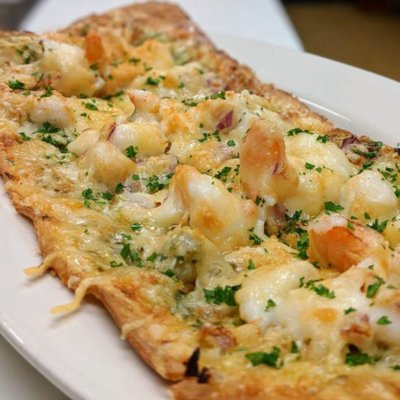sandwich: (0, 1, 400, 397)
